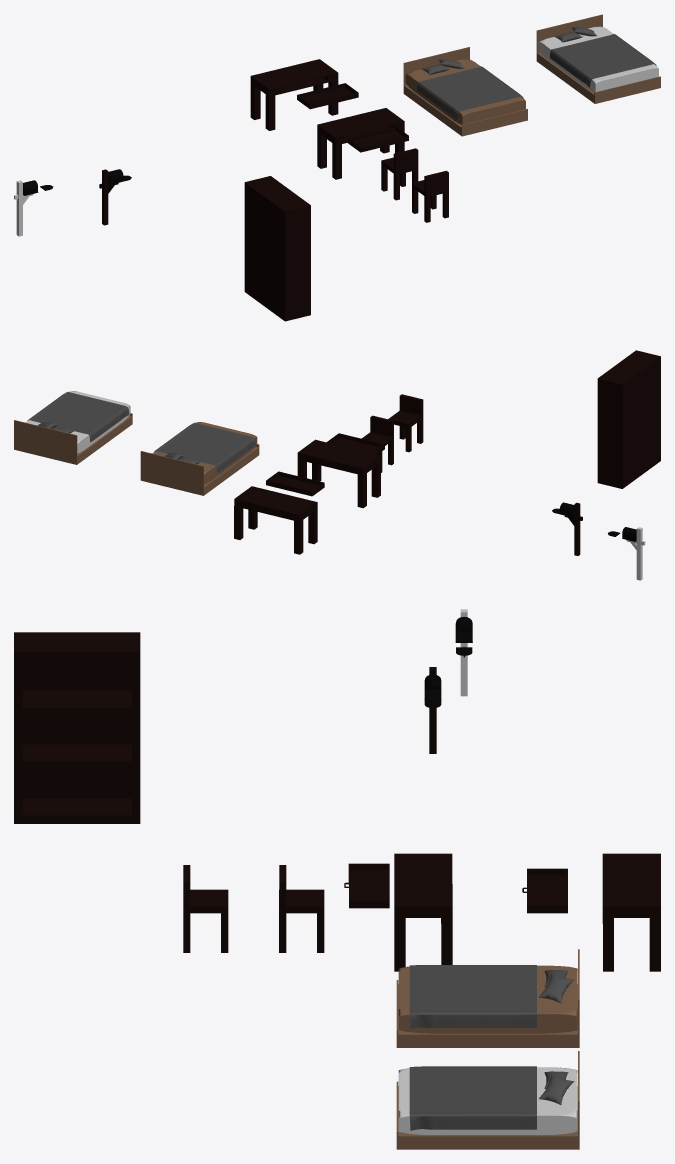
Rendered from bed.obj.
The picture shows the model from 3 angles, top to bottom: view 1: azimuth 30°, elevation 25°; view 2: azimuth 150°, elevation 25°; view 3: azimuth 270°, elevation 25°; orthographic projection. The views are drawn at different scales.
Parts seen in each view (by area): view 1: Cube, metrise.001, Plane, Cube.013, metrise, Cube.001, bed02, Cube.020, Cube.006, Cube.026, bed01, Cube.017 (+2 smaller); view 2: Cube, metrise.001, Cube.013, Plane, bed01, Cube.001, bed02, Cube.020, metrise, Cube.006, Cube.017, bed (+2 smaller); view 3: Cube, metrise.001, Plane, Cube.013, Cube.001, metrise, bed, bed02, Cube.006, Cube.020, Cube.014, Cube.017.
Boxes of the visible parts, x1=… form: Cube: x1=244, y1=176, x2=310, y2=321; metrise.001: x1=536, y1=14, x2=660, y2=103; Plane: x1=417, y1=66, x2=523, y2=119; Cube.013: x1=250, y1=59, x2=338, y2=130; metrise: x1=405, y1=59, x2=525, y2=124; Cube.001: x1=317, y1=108, x2=404, y2=145; bed02: x1=412, y1=170, x2=448, y2=222; Cube.020: x1=297, y1=83, x2=358, y2=109; Cube.006: x1=347, y1=126, x2=408, y2=152; Cube.026: x1=461, y1=109, x2=527, y2=136; bed01: x1=403, y1=47, x2=469, y2=93; Cube.017: x1=14, y1=180, x2=38, y2=236; Cube: x1=597, y1=350, x2=660, y2=488; metrise.001: x1=14, y1=391, x2=132, y2=464; Cube.013: x1=234, y1=486, x2=317, y2=554; Plane: x1=154, y1=422, x2=256, y2=473; bed01: x1=140, y1=451, x2=203, y2=495; Cube.001: x1=297, y1=439, x2=380, y2=475; bed02: x1=388, y1=394, x2=423, y2=452; Cube.020: x1=266, y1=471, x2=324, y2=496; metrise: x1=152, y1=422, x2=257, y2=484; Cube.006: x1=326, y1=433, x2=384, y2=454; Cube.017: x1=622, y1=527, x2=645, y2=580; bed: x1=204, y1=447, x2=258, y2=495; Cube: x1=14, y1=632, x2=140, y2=823; metrise.001: x1=396, y1=1051, x2=579, y2=1149; Plane: x1=409, y1=965, x2=536, y2=1028; Cube.013: x1=602, y1=853, x2=660, y2=971; Cube.001: x1=394, y1=853, x2=452, y2=917; metrise: x1=398, y1=965, x2=577, y2=1033; bed: x1=398, y1=984, x2=577, y2=1047; bed02: x1=183, y1=865, x2=228, y2=952; Cube.006: x1=344, y1=863, x2=389, y2=908; Cube.020: x1=522, y1=868, x2=567, y2=913; Cube.014: x1=279, y1=889, x2=324, y2=913; Cube.017: x1=455, y1=609, x2=472, y2=696.
Size of the model in its own units: 46.52 by 7.8 by 26.61.
